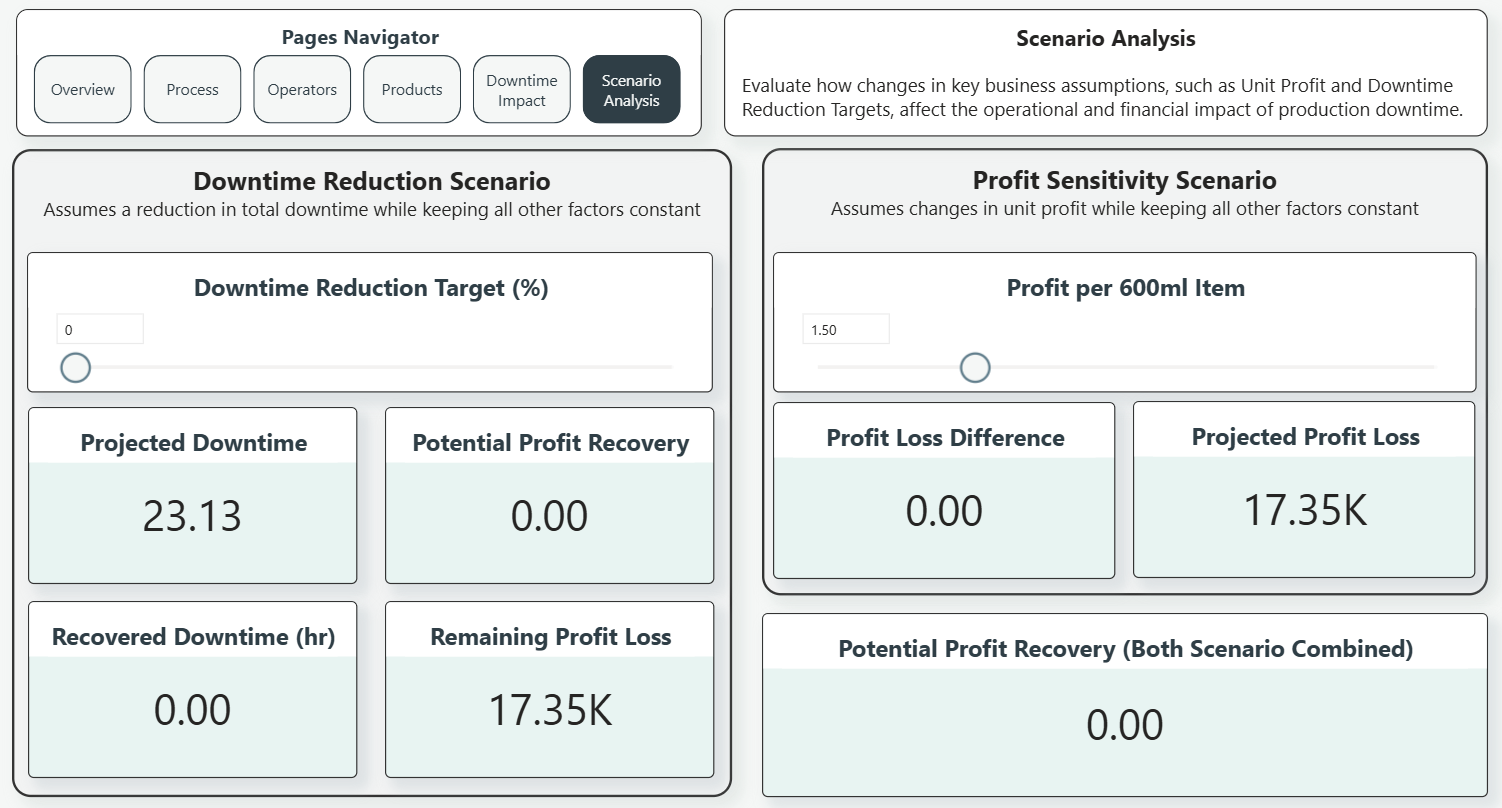

What the dashboard file says about the page in this screenshot:
{"tool":"powerbi","page":{"name":"Scenario Analysis","canvas":[1280,720],"ordinal":5},"visuals":[{"type":"textbox","box":[651.4,144.5,614.8,379.5],"z":0},{"type":"textbox","box":[16.4,144.7,609.9,548.6],"z":1000},{"type":"slicer","title":"Downtime Reduction Target (%)","fields":{"Values":["Target Downtime Reduction (%).Target Downtime Reduction (%)"]},"box":[28.9,232.1,581.4,119],"z":2000},{"type":"slicer","title":"Profit per 600ml Item","fields":{"Values":["Profit per 600ml Item.Profit per 600ml Item"]},"box":[660.8,232.1,595.8,119],"z":3000},{"type":"card","title":"Profit Loss Difference","fields":{"Values":["Profit per 600ml Item.Scenario Profit Difference"]},"box":[660.4,359.1,290,149.7],"z":4000},{"type":"card","title":"Projected Profit Loss","fields":{"Values":["Profit per 600ml Item.Scenario Profit Loss"]},"box":[965.8,358.1,290.4,149.7],"z":5000},{"type":"card","title":"Projected Downtime","fields":{"Values":["Target Downtime Reduction (%).Scenario Downtime (min)"]},"box":[29.3,363.5,278.6,150.1],"z":6000},{"type":"card","title":"Recovered Downtime (hr)","fields":{"Values":["Target Downtime Reduction (%).Recovered Downtime (min)"]},"box":[29.3,528.2,278.6,150.1],"z":7000},{"type":"card","title":"Potential Profit Recovery","fields":{"Values":["Target Downtime Reduction (%).Potential Profit Recovery"]},"box":[332.1,363.5,278.6,150.1],"z":8000},{"type":"card","title":"Remaining Profit Loss","fields":{"Values":["Target Downtime Reduction (%).Remaining Estimated Profit Loss"]},"box":[332.1,528.2,278.6,150.1],"z":9000},{"type":"card","title":"Potential Profit Recovery (Both Scenario Combined)","fields":{"Values":["Target Downtime Reduction (%).Combined Potential Additional Profit"]},"box":[651.8,537.7,614.8,155.9],"z":10000},{"type":"pageNavigator","title":"Pages Navigator","box":[19.5,26.4,581.4,108.2],"z":11000},{"type":"textbox","box":[620.1,27.3,647.2,108.4],"z":12000}]}

Visuals, with their boxes in screenshot pixels (x1, y1, x2, y2):
textbox: {"left": 757, "top": 141, "right": 1490, "bottom": 593}
textbox: {"left": 0, "top": 141, "right": 727, "bottom": 795}
"Downtime Reduction Target (%)" slicer: {"left": 15, "top": 245, "right": 708, "bottom": 387}
"Profit per 600ml Item" slicer: {"left": 768, "top": 245, "right": 1478, "bottom": 387}
"Profit Loss Difference" card: {"left": 768, "top": 397, "right": 1113, "bottom": 575}
"Projected Profit Loss" card: {"left": 1132, "top": 396, "right": 1478, "bottom": 574}
"Projected Downtime" card: {"left": 15, "top": 402, "right": 347, "bottom": 581}
"Recovered Downtime (hr)" card: {"left": 15, "top": 598, "right": 347, "bottom": 777}
"Potential Profit Recovery" card: {"left": 376, "top": 402, "right": 708, "bottom": 581}
"Remaining Profit Loss" card: {"left": 376, "top": 598, "right": 708, "bottom": 777}
"Potential Profit Recovery (Both Scenario Combined)" card: {"left": 757, "top": 610, "right": 1490, "bottom": 795}
"Pages Navigator" pageNavigator: {"left": 4, "top": 0, "right": 697, "bottom": 129}
textbox: {"left": 720, "top": 1, "right": 1491, "bottom": 130}
